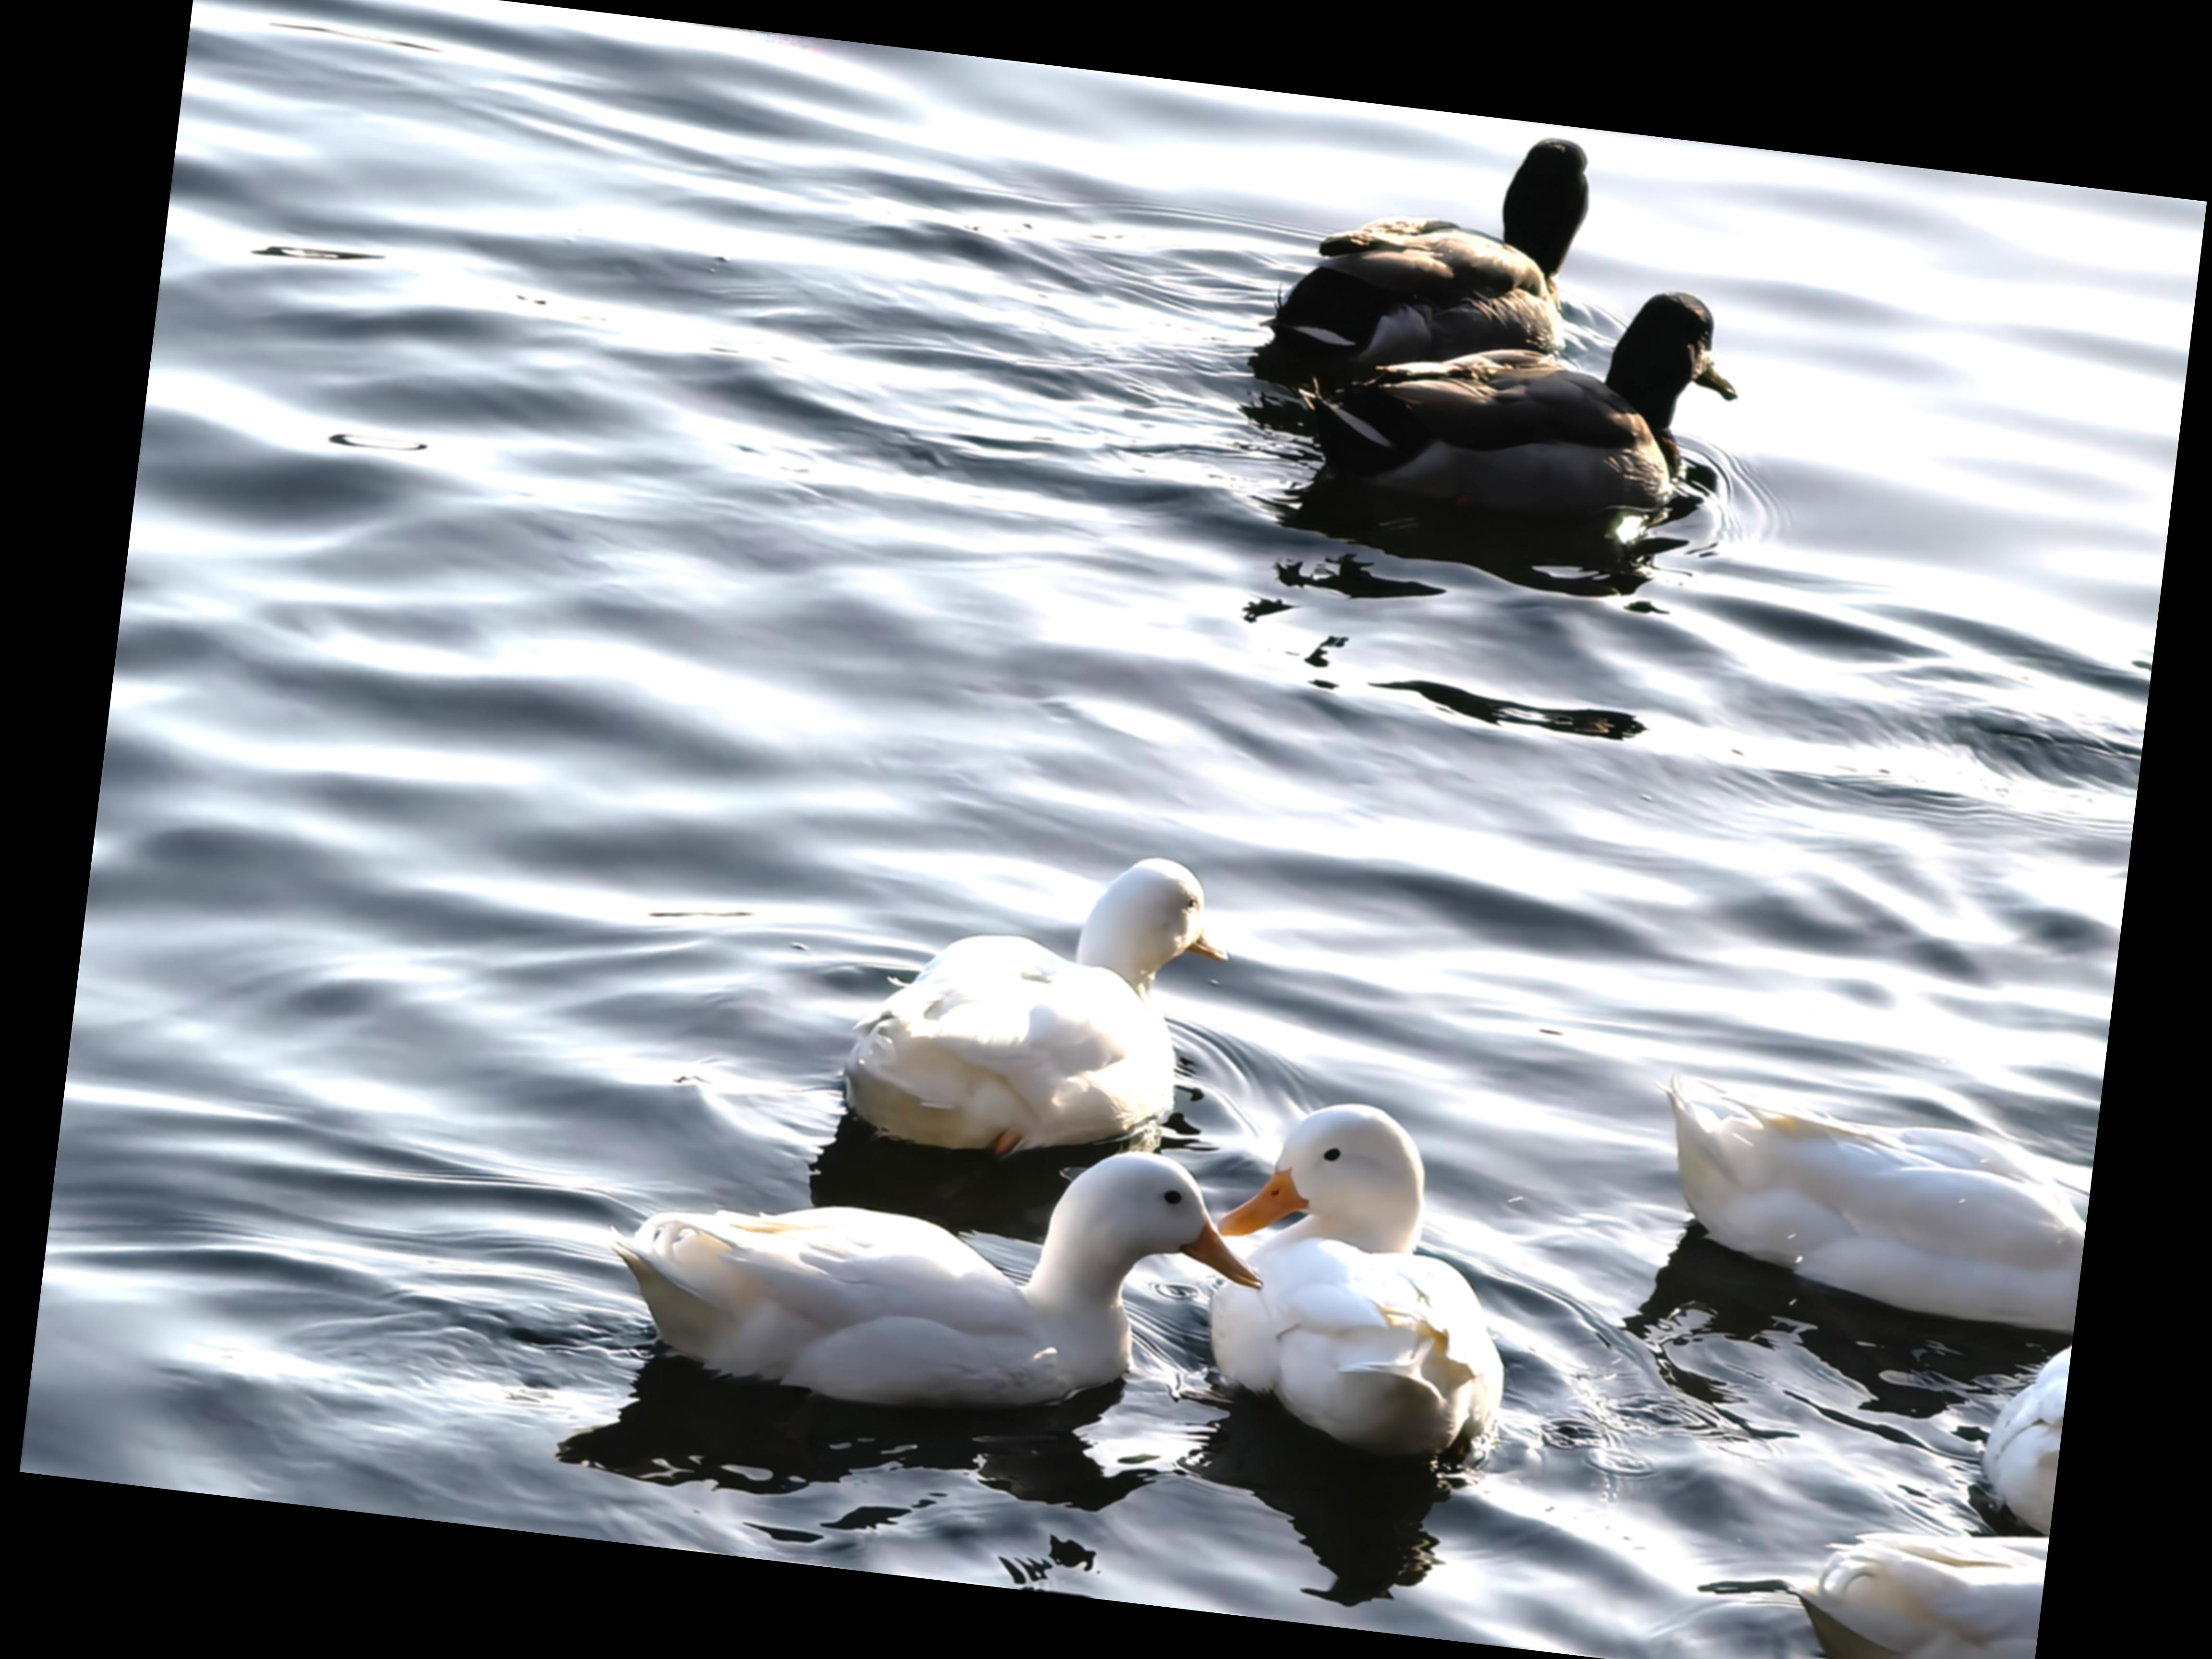duck: (540, 1073, 1275, 1492), (1244, 228, 1775, 613), (791, 786, 1292, 1194), (1623, 1040, 2101, 1337), (1188, 1061, 1534, 1462), (1245, 92, 1642, 397)
